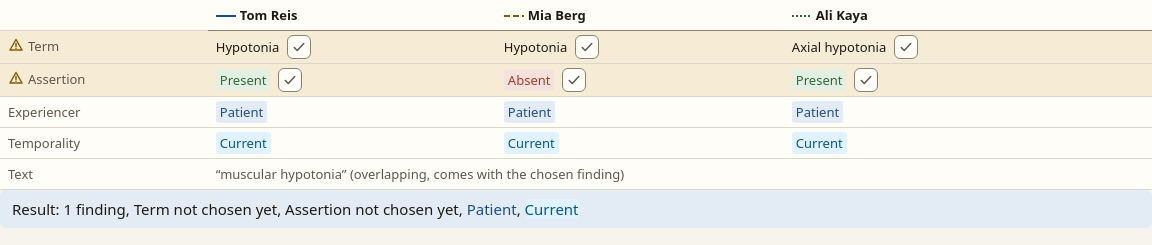
Scenario: ComparisonTable › a conflicting row has a check per person and takes the value
The width and height of the screenshot is (1152, 245).
Click the button named "Take Absent from Mia Berg for Assertion": (574, 80) [562,68,586,92]
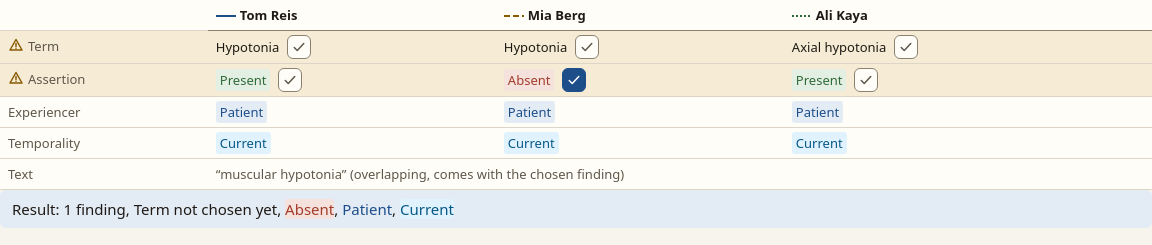
Expected: the element with class "cons-result" shows "Absent, Patient, Current", [0,190,1151,228]
